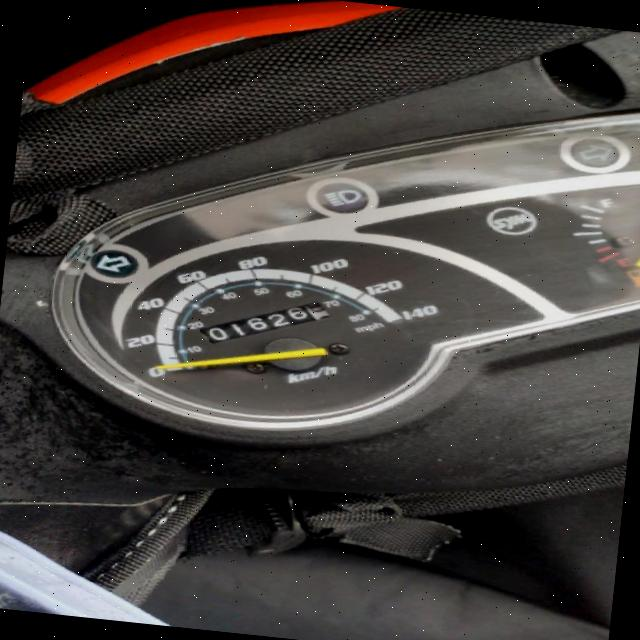odometer: (194, 287, 338, 356)
